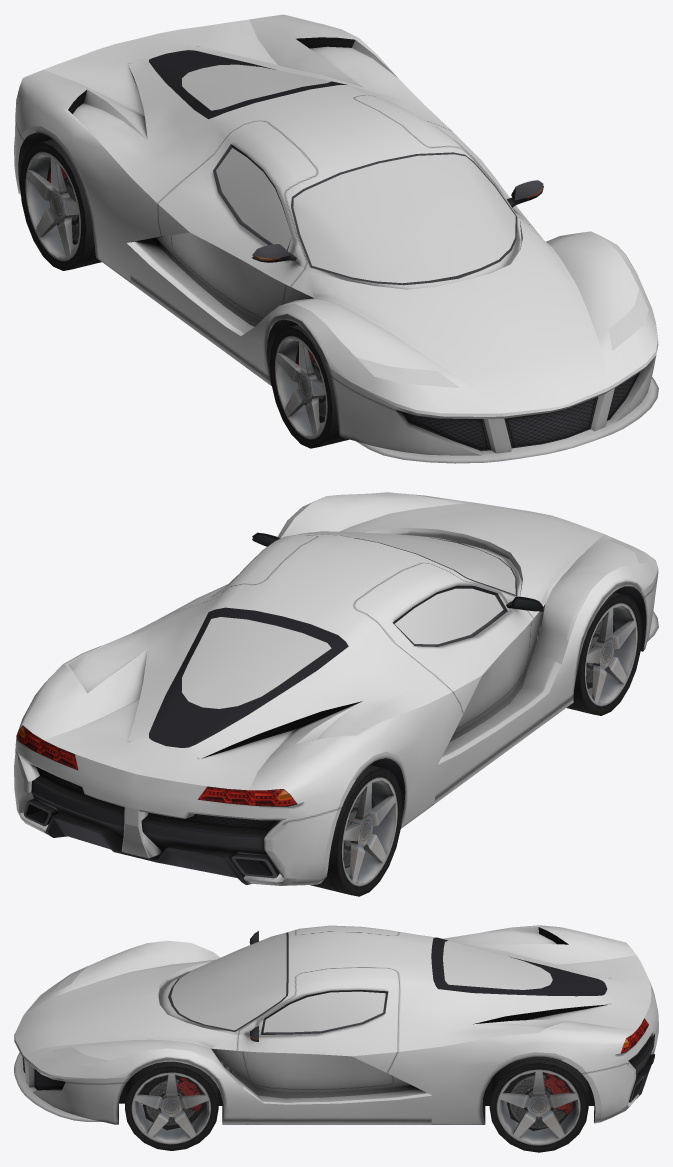
3 views of the same model, one above another, from view 1: azimuth 30°, elevation 25°; view 2: azimuth 150°, elevation 25°; view 3: azimuth 270°, elevation 25° (orthographic). The views are drawn at different scales.
Visible parts, largest first — view 1: Body_27, Glass_27, Matte_27, Wheel_Back_R, Wheel_R, Glass_light; view 2: Body_27, Matte_27, Glass_27, Wheel_Back_R, Wheel_R, Taillights_27; view 3: Body_27, Glass_27, Matte_27, Wheel_Back_L, Wheel_L, break_L, Glass_light, Taillights_27.
Part boxes in pixels (x1=…): Body_27: x1=14, y1=14, x2=658, y2=463; Glass_27: x1=181, y1=64, x2=515, y2=283; Matte_27: x1=18, y1=37, x2=640, y2=450; Wheel_Back_R: x1=20, y1=139, x2=101, y2=270; Wheel_R: x1=269, y1=325, x2=348, y2=448; Glass_light: x1=356, y1=289, x2=648, y2=387; Body_27: x1=14, y1=492, x2=658, y2=885; Matte_27: x1=23, y1=532, x2=646, y2=884; Glass_27: x1=182, y1=531, x2=515, y2=708; Wheel_Back_R: x1=310, y1=765, x2=402, y2=896; Wheel_R: x1=566, y1=592, x2=642, y2=715; Taillights_27: x1=16, y1=725, x2=296, y2=806; Body_27: x1=14, y1=925, x2=658, y2=1124; Glass_27: x1=171, y1=932, x2=552, y2=1032; Matte_27: x1=22, y1=927, x2=654, y2=1130; Wheel_Back_L: x1=489, y1=1056, x2=588, y2=1152; Wheel_L: x1=125, y1=1061, x2=218, y2=1150; break_L: x1=142, y1=1075, x2=206, y2=1130; Glass_light: x1=51, y1=966, x2=108, y2=1066; Taillights_27: x1=621, y1=1018, x2=648, y2=1053.
Bounding box in the file's own units: 79.81 × 46.52 × 186.
